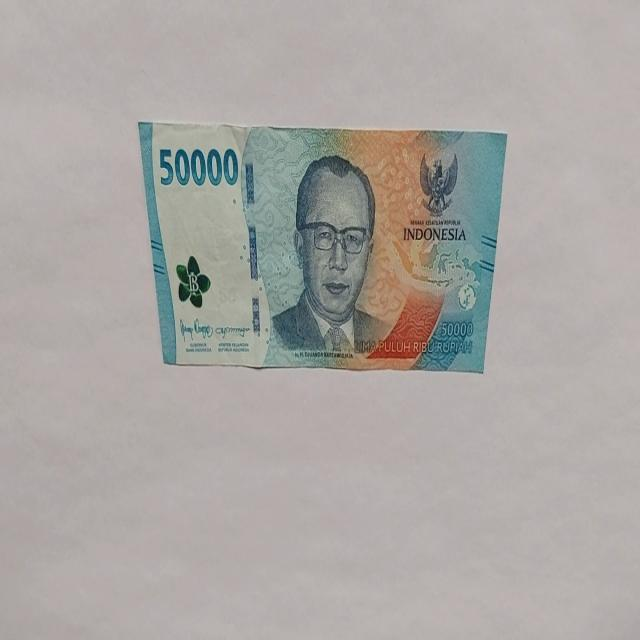lima puluh ribu rupiah: (137, 120, 507, 373), (267, 152, 389, 358), (157, 143, 239, 189)
